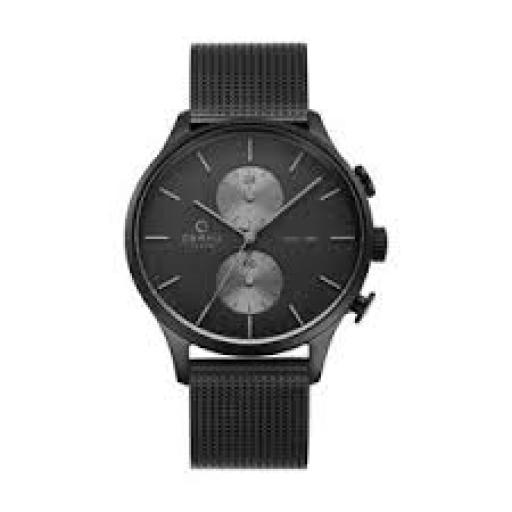KolSaati: (125, 26, 384, 478)
